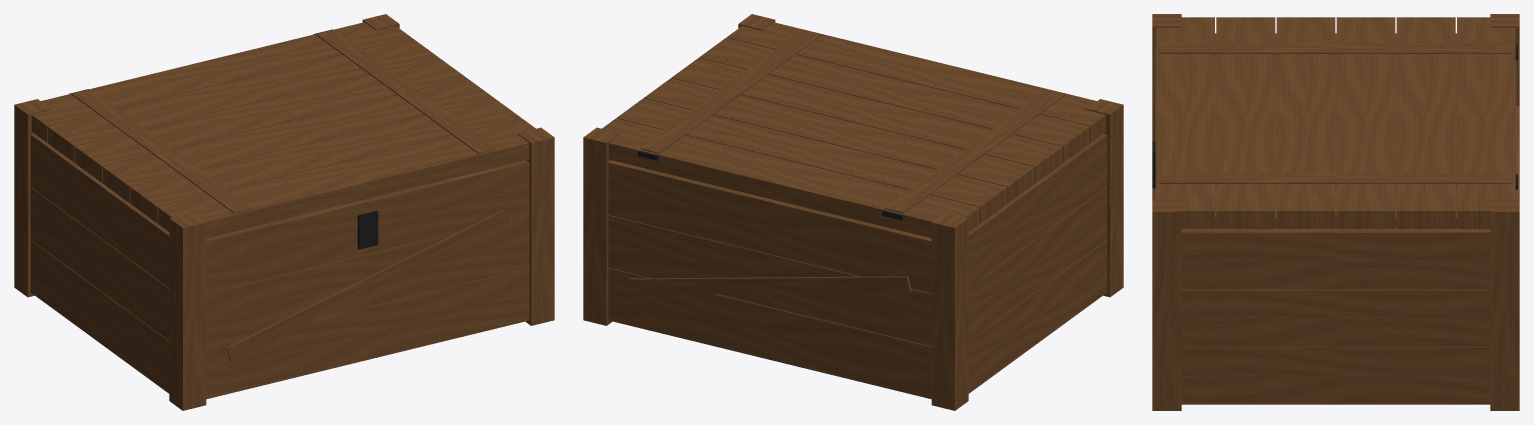
File: wooden-storage-chest.glb
3 views of the same model, side by side, from view 1: azimuth 30°, elevation 25°; view 2: azimuth 150°, elevation 25°; view 3: azimuth 270°, elevation 25° (orthographic). The views are drawn at different scales.
Visible parts, largest first — view 1: Long side plank.002, Long side plank, Fitted lid plank, Long side plank.001, Fitted lid plank.002, Fitted lid plank.003, Fitted lid plank.004, Fitted lid plank.001, Fitted lid plank.005, End panel plank.002, End panel plank, End panel plank.001 (+7 smaller); view 2: Long side plank.005, Long side plank.003, Long side plank.004, Fitted lid plank.005, Fitted lid plank.003, Fitted lid plank.001, Fitted lid plank.002, Fitted lid plank.004, Fitted lid plank, End panel plank.002, End panel plank, End panel plank.001 (+6 smaller); view 3: End panel plank.005, End panel plank.004, End panel plank.003, Fitted lid plank.001, Fitted lid plank.002, Fitted lid plank.003, Fitted lid plank.004, Fitted lid plank, Fitted lid plank.005, Corner post.002, Corner post.003, Lid cross batten (+5 smaller).
Boxes of the visible parts, x1,y1,x2,y2 form: Long side plank.002: (206,160,529,293); Long side plank: (206,268,529,399); Fitted lid plank: (158,118,535,238); Long side plank.001: (206,215,529,346); Fitted lid plank.002: (102,78,493,202); Fitted lid plank.003: (75,58,466,182); Fitted lid plank.004: (47,37,438,162); Fitted lid plank.001: (130,98,521,223); Fitted lid plank.005: (31,22,410,142); End panel plank.002: (30,133,169,287); End panel plank: (30,240,169,393); End panel plank.001: (30,187,169,340); Long side plank.005: (608,160,931,293); Long side plank.003: (608,268,931,399); Long side plank.004: (608,215,931,346); Fitted lid plank.005: (602,118,979,238); Fitted lid plank.003: (644,78,1035,202); Fitted lid plank.001: (699,37,1090,162); Fitted lid plank.002: (671,58,1062,182); Fitted lid plank.004: (616,98,1007,223); Fitted lid plank: (727,22,1106,142); End panel plank.002: (968,133,1107,287); End panel plank: (968,240,1107,393); End panel plank.001: (968,187,1107,340); End panel plank.005: (1181,227,1490,289); End panel plank.004: (1181,289,1490,347); End panel plank.003: (1181,347,1490,404); Fitted lid plank.001: (1216,17,1275,228); Fitted lid plank.002: (1276,17,1335,228); Fitted lid plank.003: (1336,17,1395,228); Fitted lid plank.004: (1396,17,1455,228); Fitted lid plank: (1156,17,1214,228); Fitted lid plank.005: (1457,17,1515,228); Corner post.002: (1152,199,1181,410); Corner post.003: (1490,199,1519,410); Lid cross batten: (1159,43,1512,55).
Size of the model in its own units: 0.7 by 0.3291 by 0.55.
Materials: 7 (6 with a texture image).
